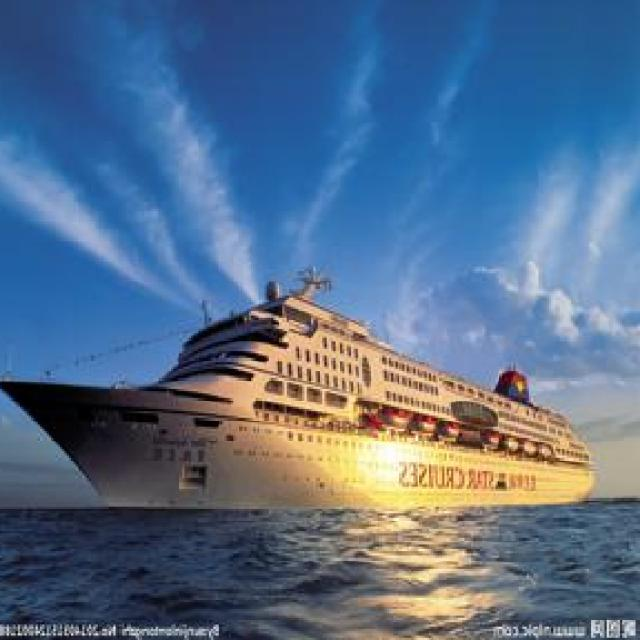houseboat: (0, 279, 614, 513)
